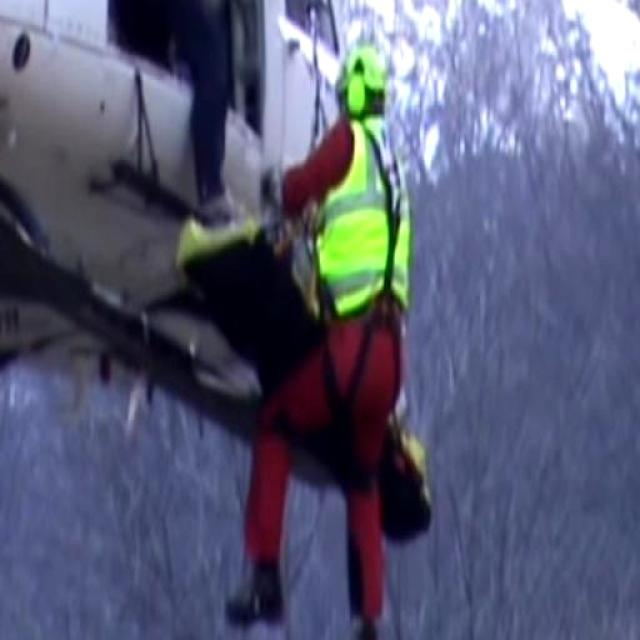drone: (0, 0, 425, 640)
